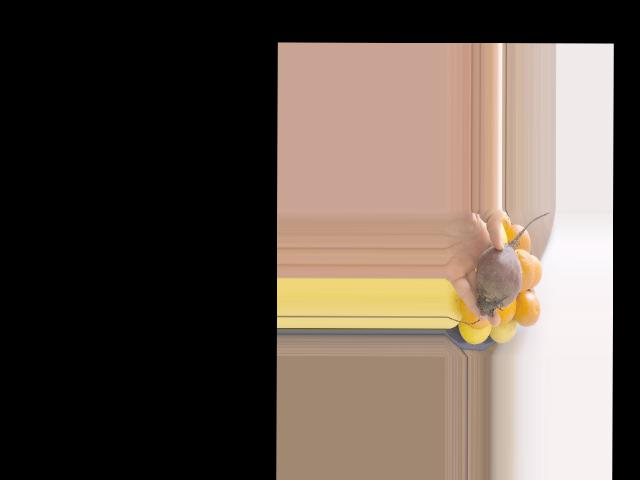beet: (475, 212, 549, 316)
